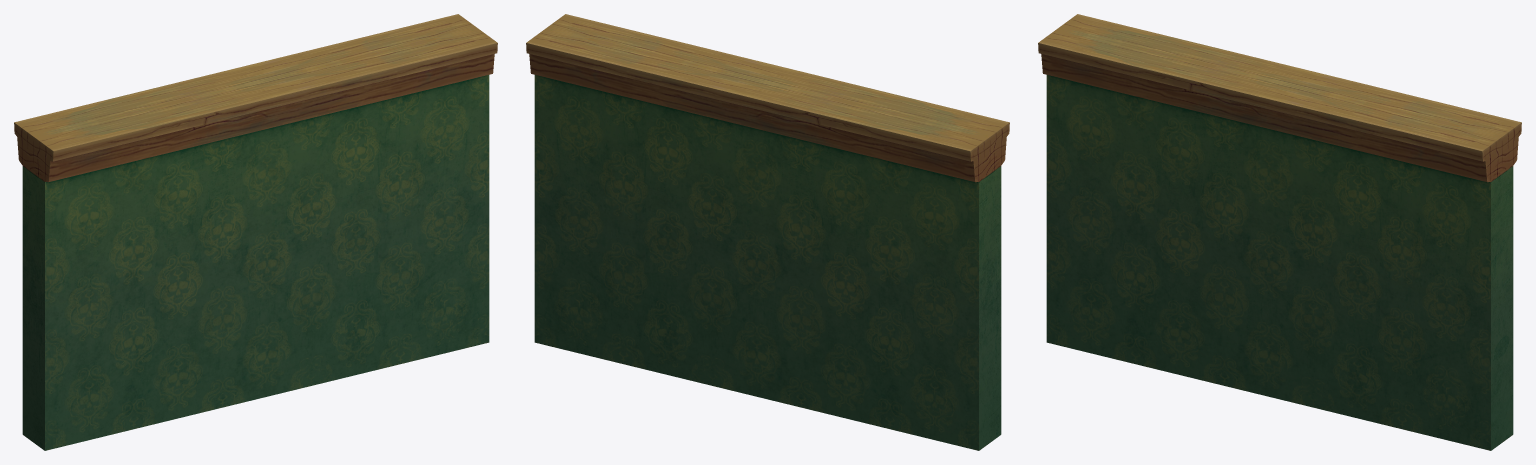
The model's file is WallUpper.fbx.
The picture shows the model from 3 angles, left to right: view 1: azimuth 30°, elevation 25°; view 2: azimuth 150°, elevation 25°; view 3: azimuth 330°, elevation 25°; orthographic projection.
Visible parts, largest first — view 1: Wall_Bottom_low.003; view 2: Wall_Bottom_low.003; view 3: Wall_Bottom_low.003.
Boxes of the visible parts, left/top/right/bottom form: Wall_Bottom_low.003: left=14, top=14, right=497, bottom=450; Wall_Bottom_low.003: left=526, top=14, right=1009, bottom=450; Wall_Bottom_low.003: left=1038, top=14, right=1521, bottom=450.
Size of the model in its own units: 241 by 159 by 37.08.
1 material, 1 textured.
